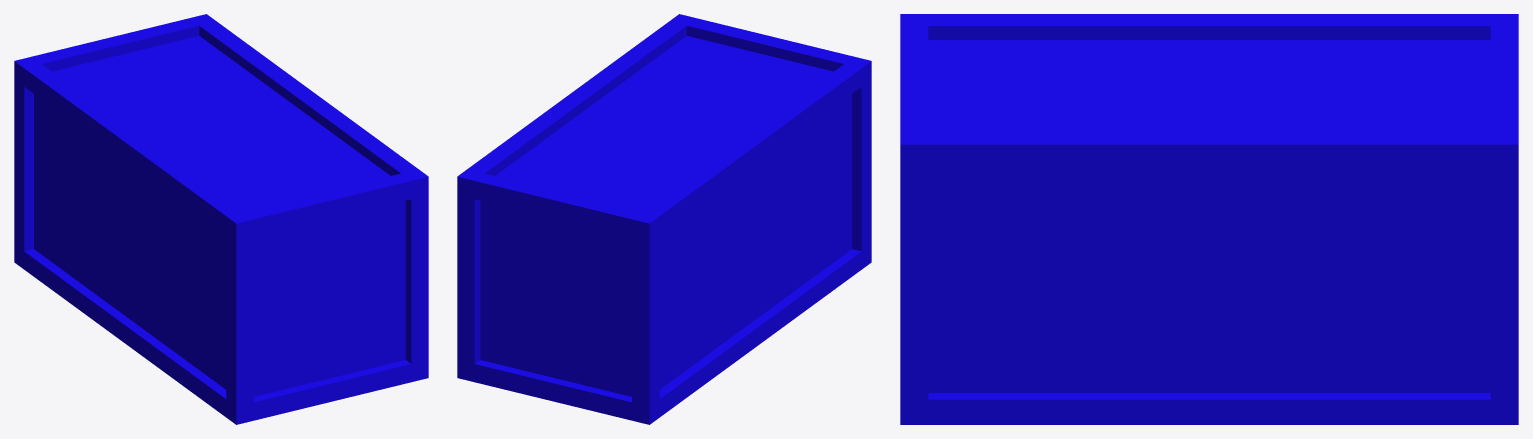
File: Prop_Crate 2.FBX
The picture shows the model from 3 angles, left to right: view 1: azimuth 30°, elevation 25°; view 2: azimuth 150°, elevation 25°; view 3: azimuth 270°, elevation 25°; orthographic projection. The views are drawn at different scales.
Parts seen in each view (by area): view 1: Box 2; view 2: Box 2; view 3: Box 2.
Boxes of the visible parts, x1,y1,x2,y2 form: Box 2: [14, 14, 428, 424]; Box 2: [457, 14, 871, 424]; Box 2: [900, 14, 1518, 424].
Size of the model in its own units: 100 by 100 by 200.
